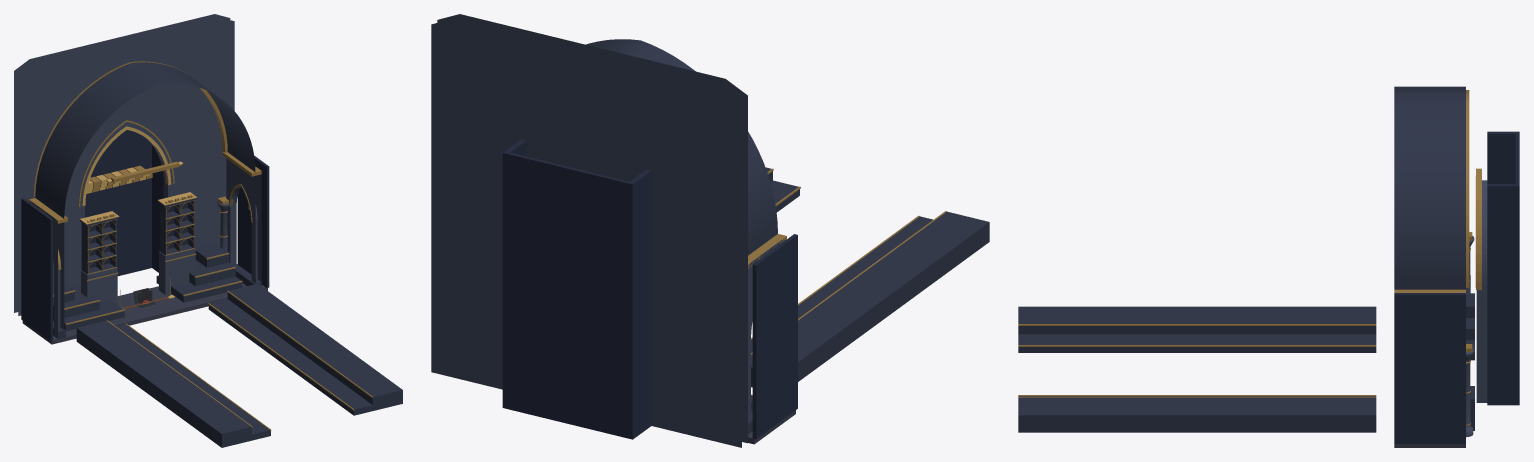
Rendered from ferman.glb.
3 views of the same model, side by side, from view 1: azimuth 30°, elevation 25°; view 2: azimuth 150°, elevation 25°; view 3: azimuth 270°, elevation 25° (orthographic). The views are drawn at different scales.
Parts seen in each view (by area): view 1: Back, Tiers, Bay; view 2: Back, Tiers, Bay; view 3: Tiers, Bay, Back.
Part boxes in pixels (box(x1,y1,x2,y2)): Back: box(14, 14, 234, 315); Tiers: box(53, 243, 402, 447); Bay: box(21, 61, 269, 344); Back: box(431, 14, 747, 447); Tiers: box(751, 167, 989, 410); Bay: box(586, 39, 797, 444); Tiers: box(1018, 293, 1474, 432); Bay: box(1394, 86, 1474, 447); Back: box(1475, 131, 1519, 405).
Size of the model in its own units: 17.4 by 19.31 by 28.
